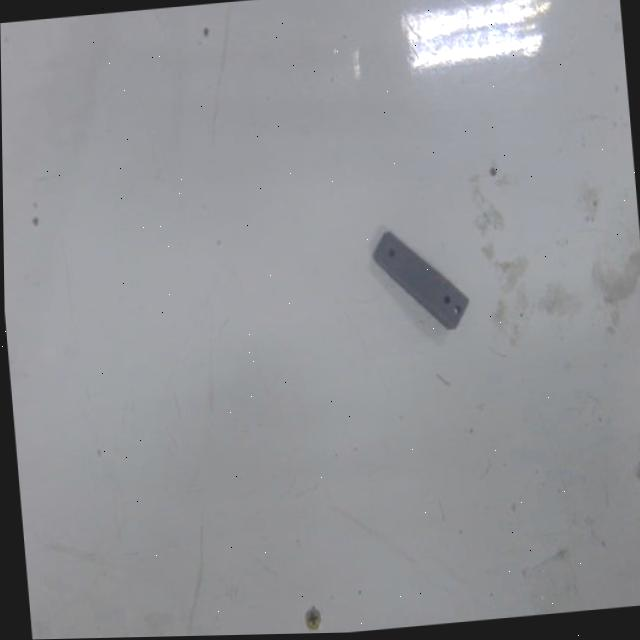grey: (367, 221, 470, 336)
head: (383, 243, 396, 261)
